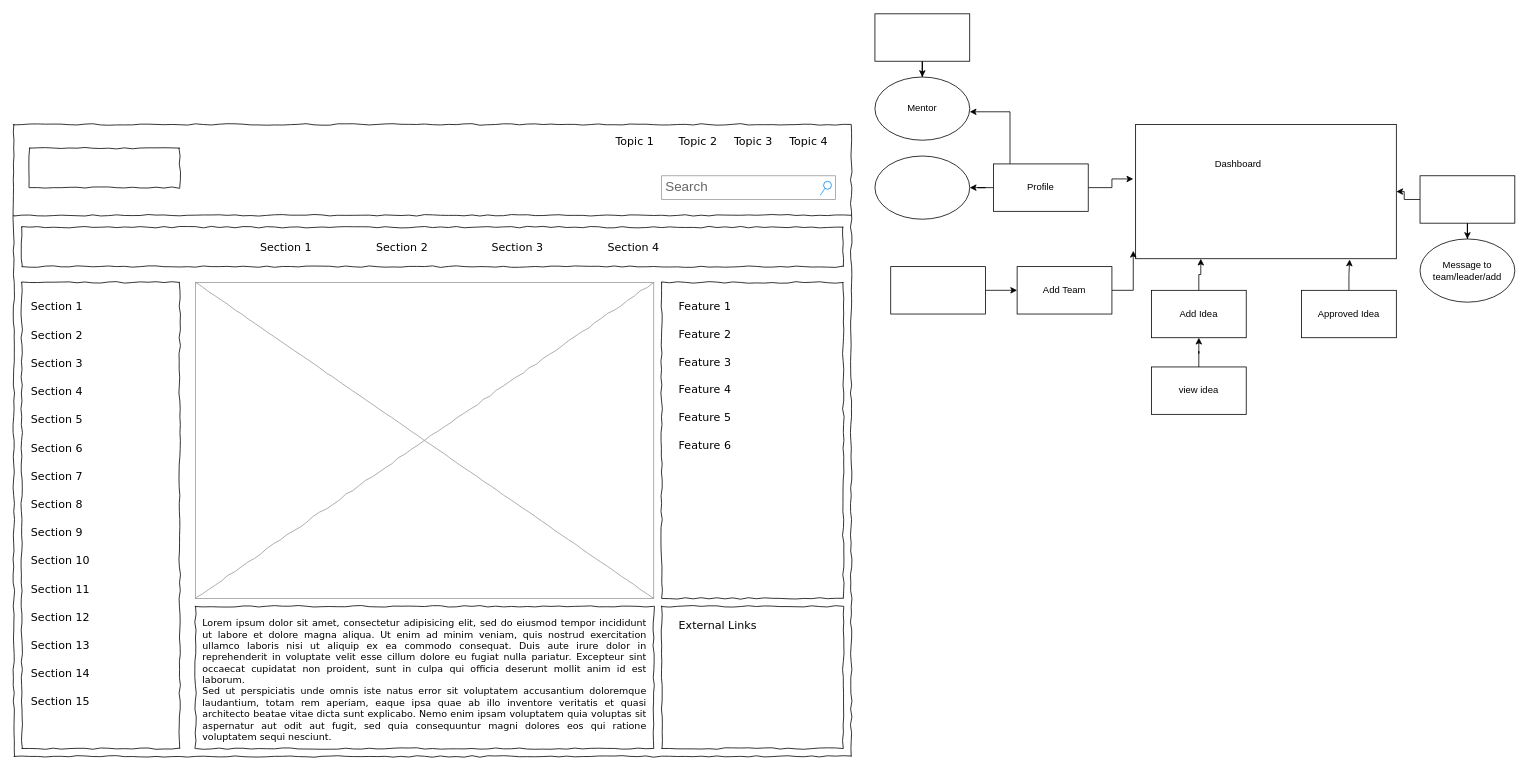
This 1529x770 diagram has some shape labels left out. The shapes that lost their labels are listed below. From the top down, each one's centre as x and y in pixels, then its label:
At [922,37]: "Mentor Profile".
At [104,167]: "LOGO".
At [922,187]: "Info about team".
At [1467,199]: "Message".
At [938,290]: "view Team".
